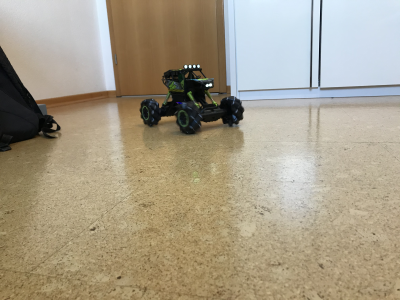remote control car: (136, 62, 246, 137)
